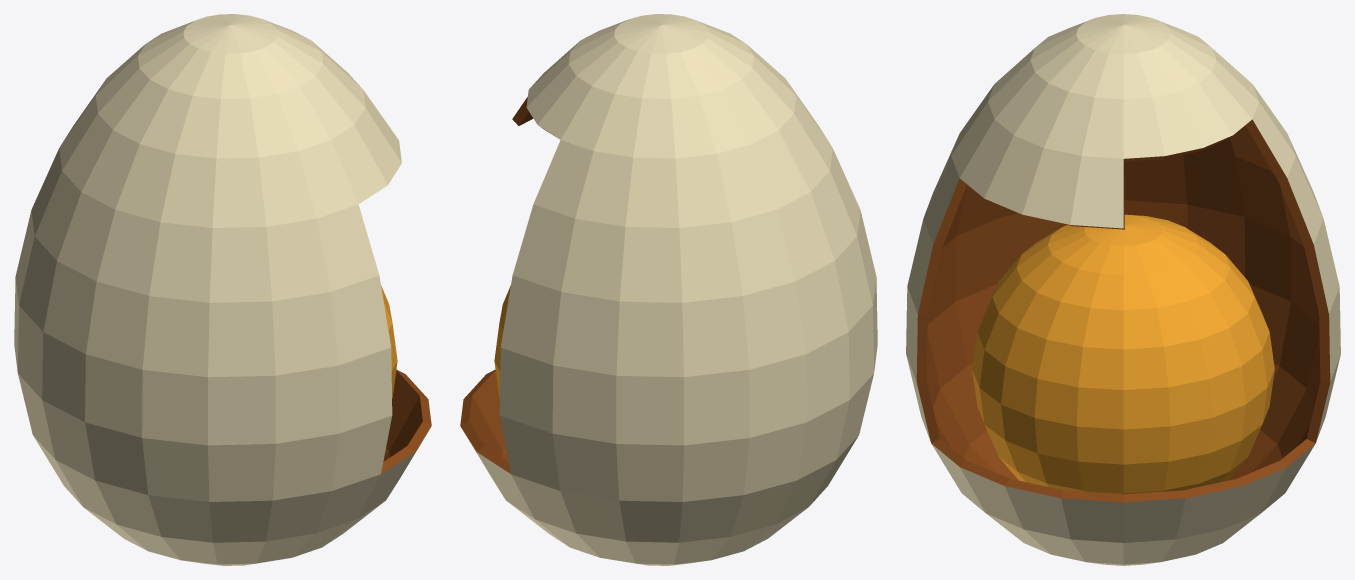
Rendered from SM_Egg_Broken_A.fbx.
3 views of the same model, side by side, from view 1: azimuth 30°, elevation 25°; view 2: azimuth 150°, elevation 25°; view 3: azimuth 270°, elevation 25° (orthographic).
Visible parts, largest first — view 1: SM_Egg_Broken_A; view 2: SM_Egg_Broken_A; view 3: SM_Egg_Broken_A.
Part boxes in pixels (x1,y1,x2,y2): SM_Egg_Broken_A: (14,14,431,565); SM_Egg_Broken_A: (460,14,877,565); SM_Egg_Broken_A: (906,14,1340,565).
Bounding box in the file's own units: 30.18 × 29.12 × 40.
